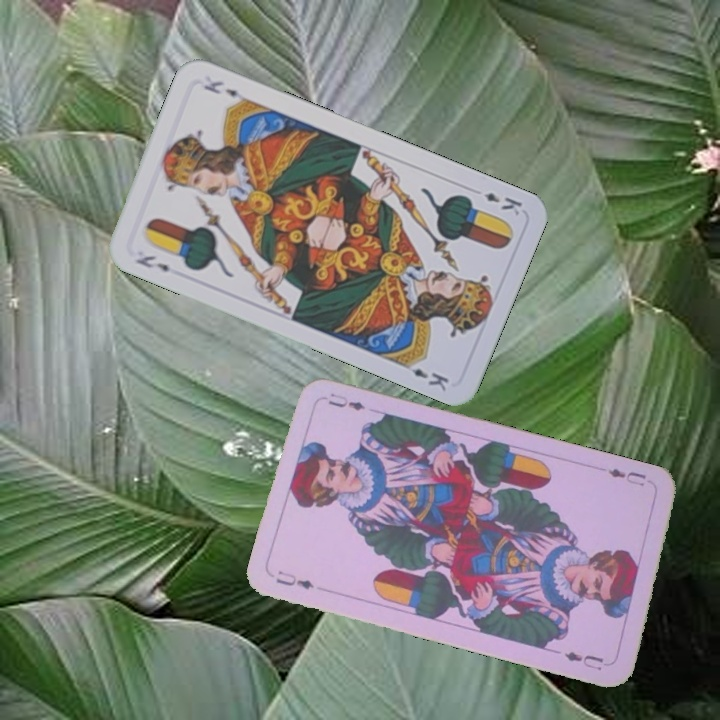EK: (480, 188, 525, 218), (131, 251, 172, 275)
EU: (272, 566, 317, 592), (603, 464, 649, 489)
